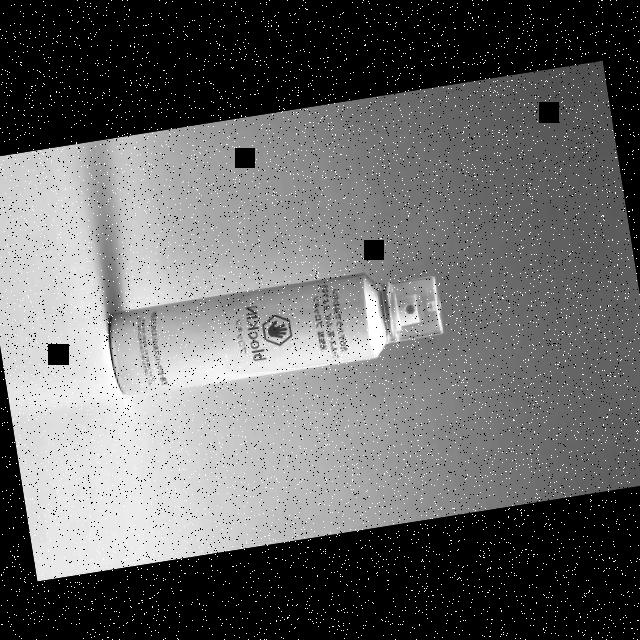chemical_spray_can: (81, 218, 482, 446)
